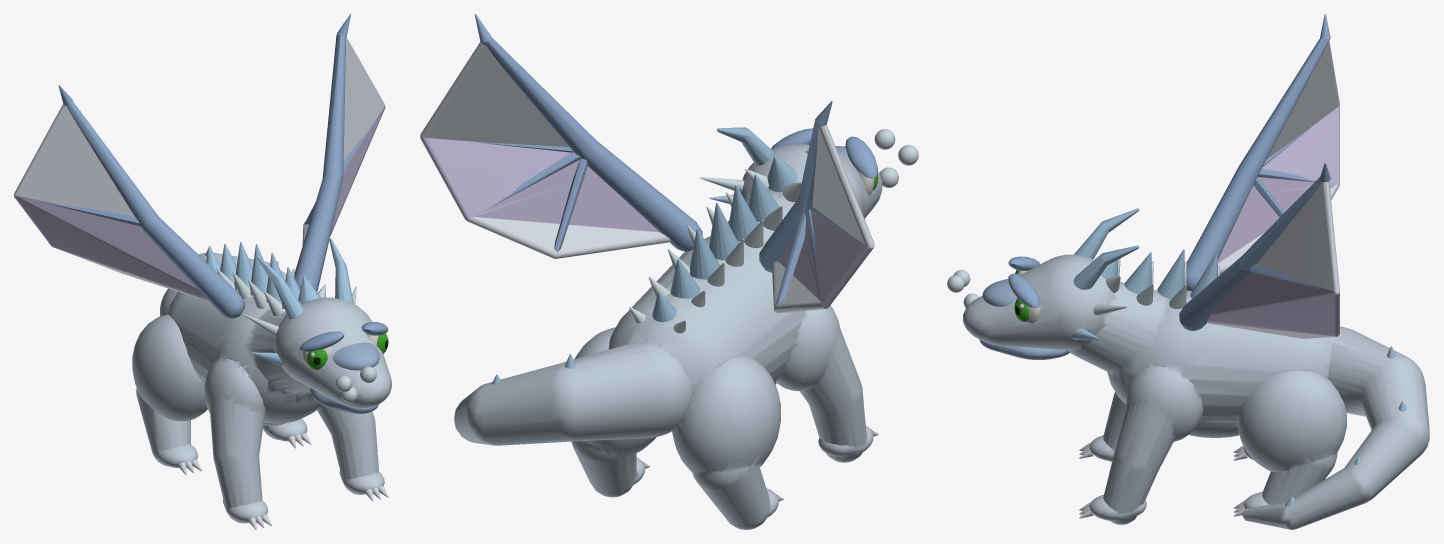
File: glacifang.glb
The picture shows the model from 3 angles, left to right: view 1: azimuth 30°, elevation 25°; view 2: azimuth 150°, elevation 25°; view 3: azimuth 270°, elevation 25°; orthographic projection. The views are drawn at different scales.
Parts seen in each view (by area): view 1: creature; view 2: creature; view 3: creature.
Part boxes in pixels (x1,y1,x2,y2): creature: (14,14,391,529); creature: (420,14,918,529); creature: (947,14,1429,529).
Size of the model in its own units: 1 by 1 by 1.08.
